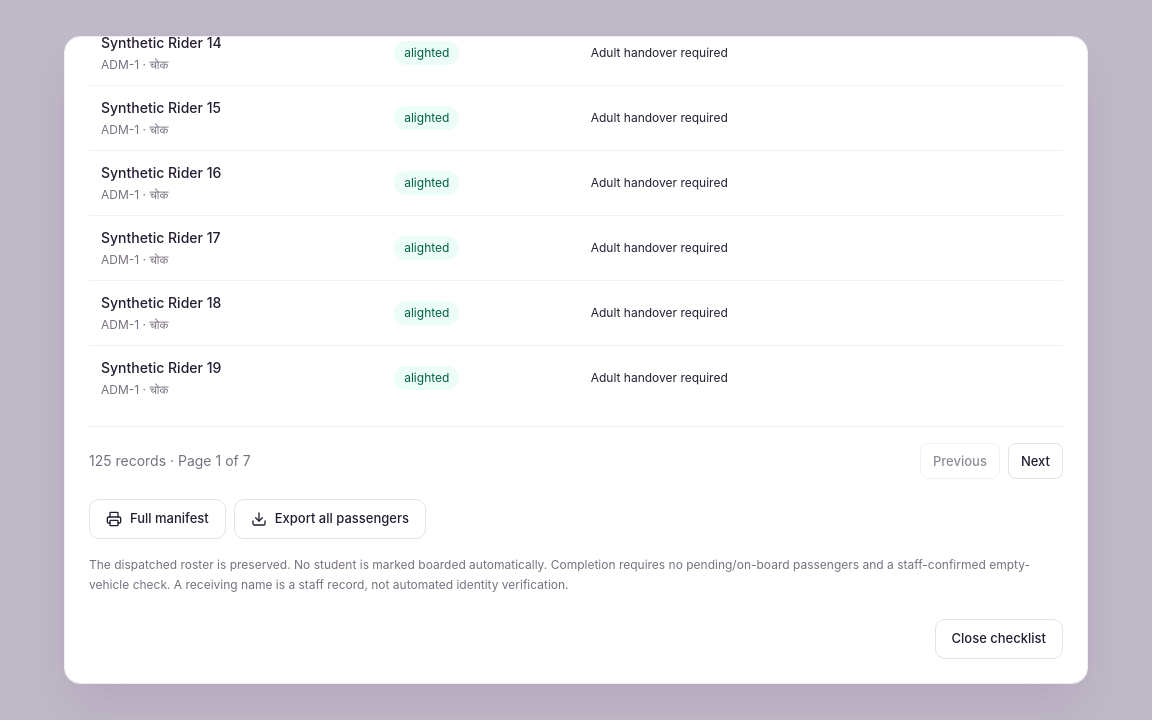
Test: the printable manifest requests and includes all 125 passengers beyond the visible page
The width and height of the screenshot is (1152, 720).
(page scrolled)
Click the button "Full manifest" at (157, 519), box [89, 499, 226, 539]
(page scrolled)
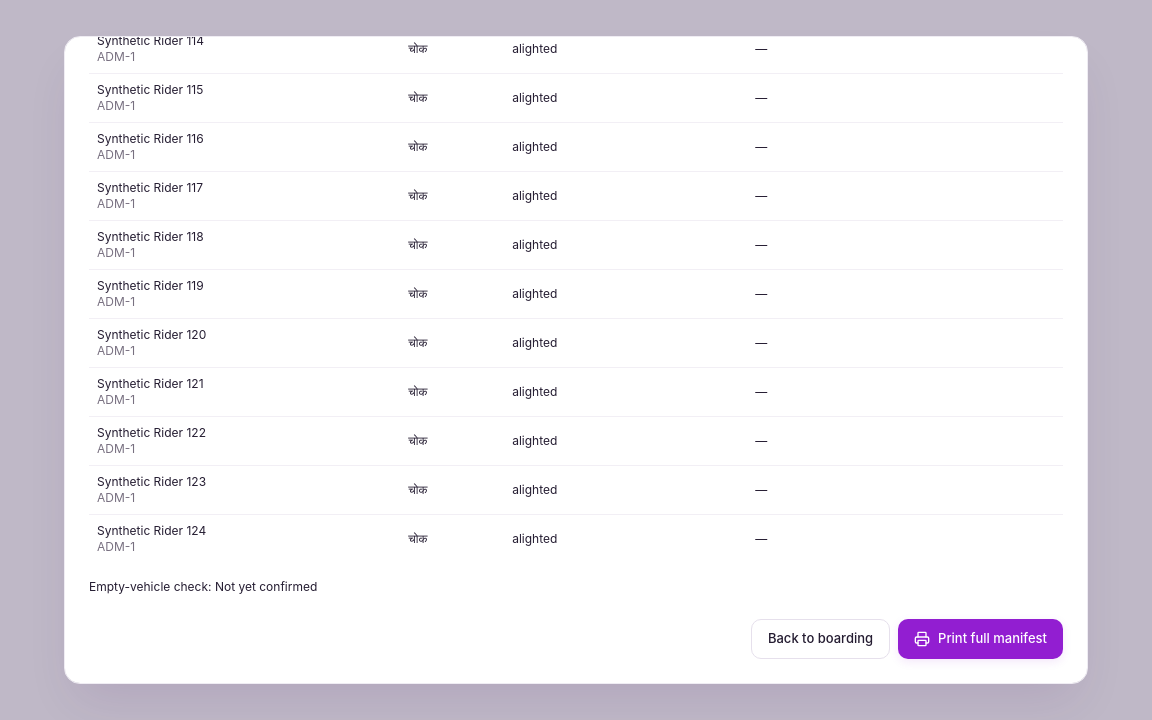
Result: the button "Print full manifest" is shown at [898, 619, 1063, 659]
